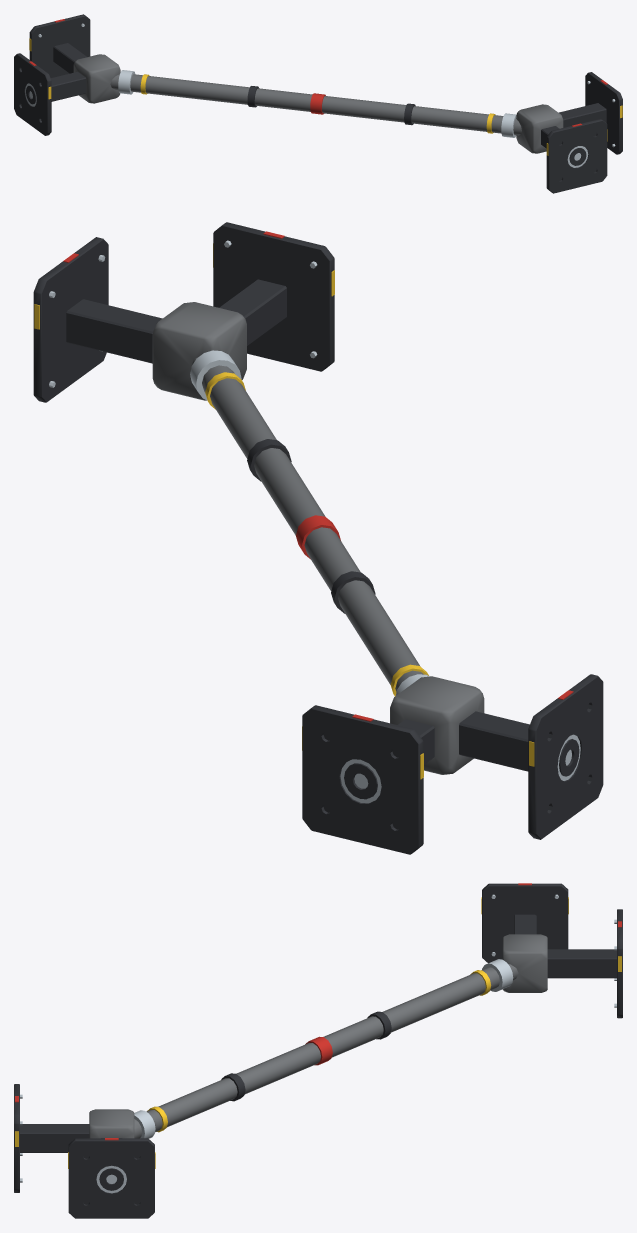
Rendered from R4C_ROD_DIAG_2D_LONG.glb.
3 renders of one model, top to bottom at view 1: azimuth 30°, elevation 25°; view 2: azimuth 150°, elevation 25°; view 3: azimuth 270°, elevation 25°, orthographic. The views are drawn at different scales.
Visible parts, largest first — view 1: R4C_ROD_DIAG_2D_LONG; view 2: R4C_ROD_DIAG_2D_LONG; view 3: R4C_ROD_DIAG_2D_LONG.
Boxes of the visible parts, bbox=[...] form: R4C_ROD_DIAG_2D_LONG: bbox=[14, 14, 622, 193]; R4C_ROD_DIAG_2D_LONG: bbox=[33, 222, 603, 854]; R4C_ROD_DIAG_2D_LONG: bbox=[14, 883, 622, 1218].
Size of the model in its own units: 1.62 by 0.2316 by 1.62.
